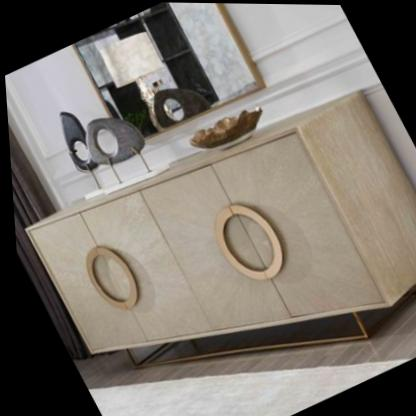Sideboard: (25, 91, 416, 356)
